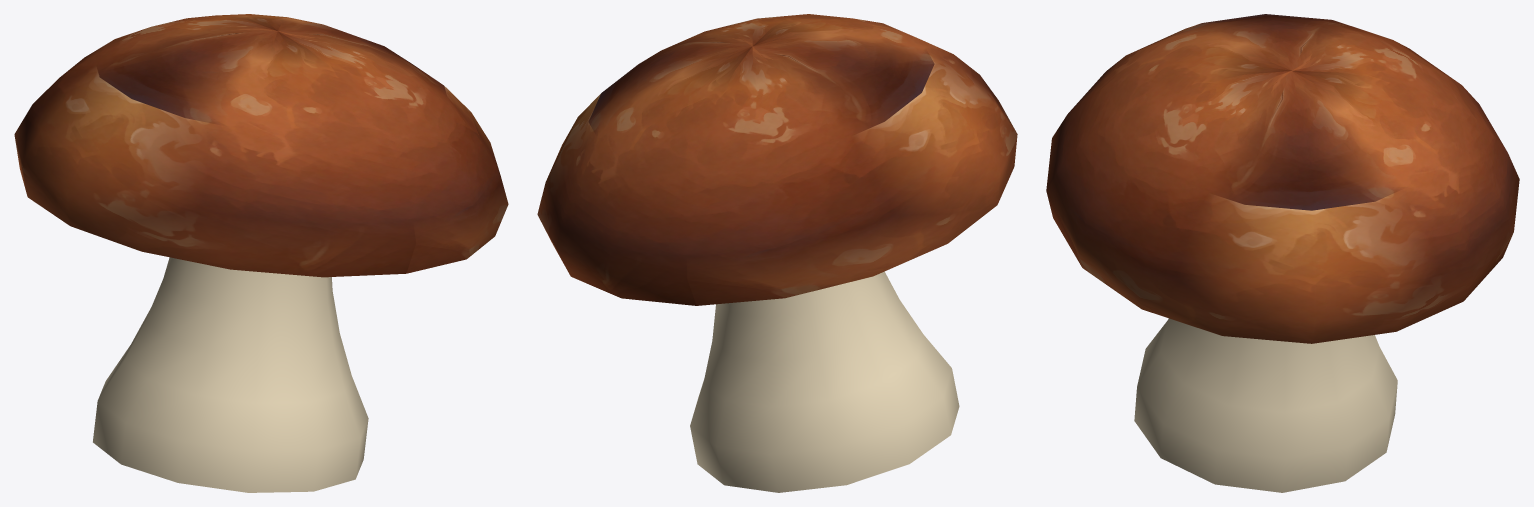
Rendered from porcini1.glb.
3 views of the same model, side by side, from view 1: azimuth 30°, elevation 25°; view 2: azimuth 150°, elevation 25°; view 3: azimuth 270°, elevation 25° (orthographic). The views are drawn at different scales.
Parts seen in each view (by area): view 1: porcini1_cap_LOD0, porcini1_stem_LOD0; view 2: porcini1_cap_LOD0, porcini1_stem_LOD0; view 3: porcini1_cap_LOD0, porcini1_stem_LOD0.
Boxes of the visible parts, left/top/right/bottom form: porcini1_cap_LOD0: left=14, top=14, right=508, bottom=277; porcini1_stem_LOD0: left=93, top=257, right=368, bottom=492; porcini1_cap_LOD0: left=537, top=14, right=1017, bottom=305; porcini1_stem_LOD0: left=690, top=271, right=959, bottom=492; porcini1_cap_LOD0: left=1046, top=14, right=1519, bottom=343; porcini1_stem_LOD0: left=1134, top=318, right=1397, bottom=492.
Size of what is drawn, in the model's own units: 0.2415 by 0.2295 by 0.2448.
3 materials, 1 textured.
